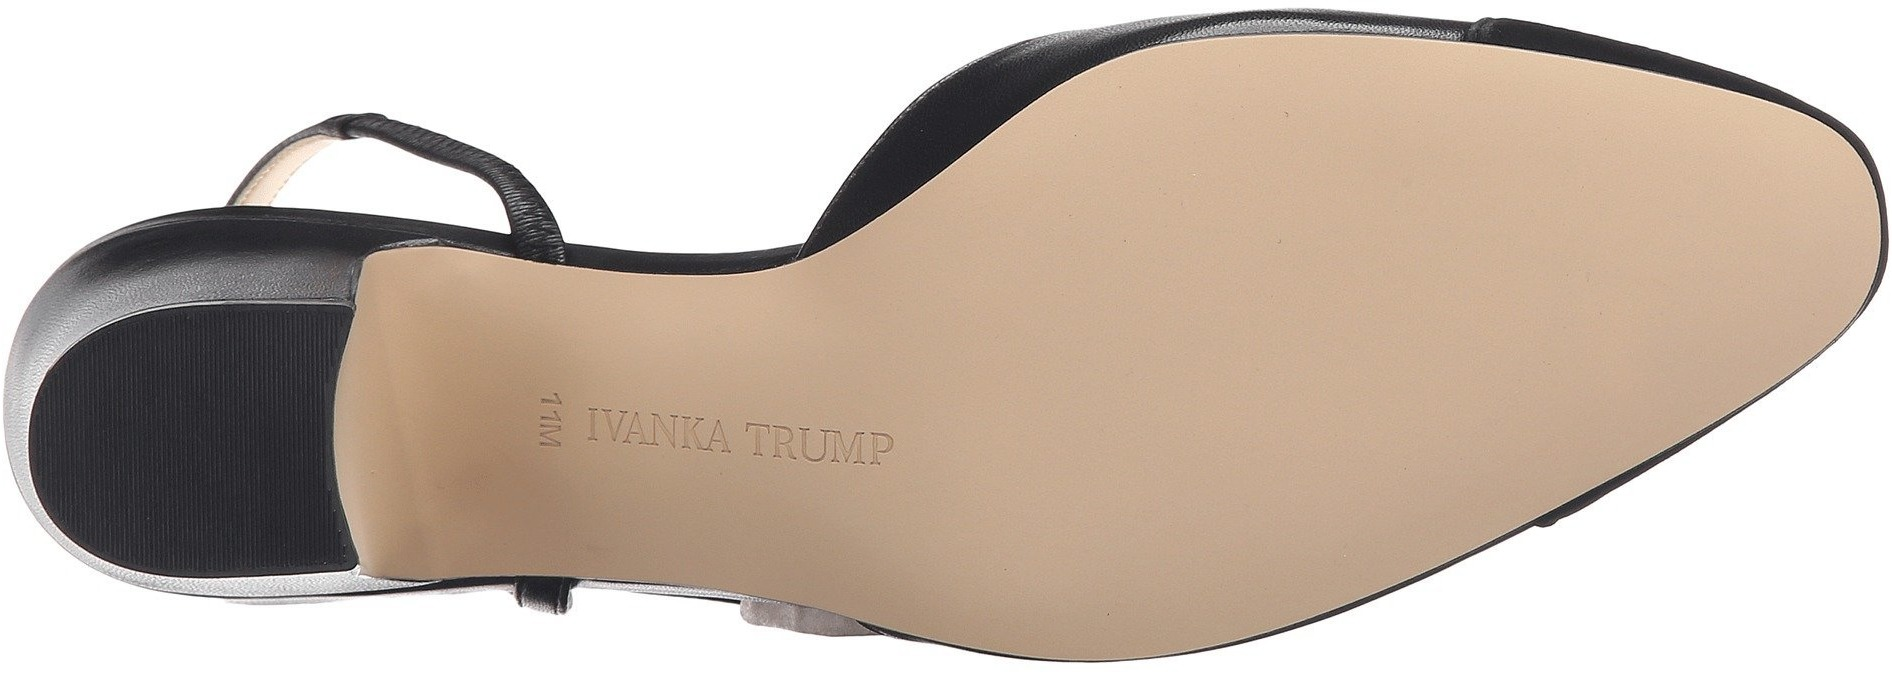line: (103, 334, 309, 550)
other: (1180, 71, 1547, 472), (913, 207, 1260, 585), (1648, 159, 1830, 340), (1111, 75, 1260, 200)
text: (543, 343, 726, 488), (734, 378, 909, 517)
